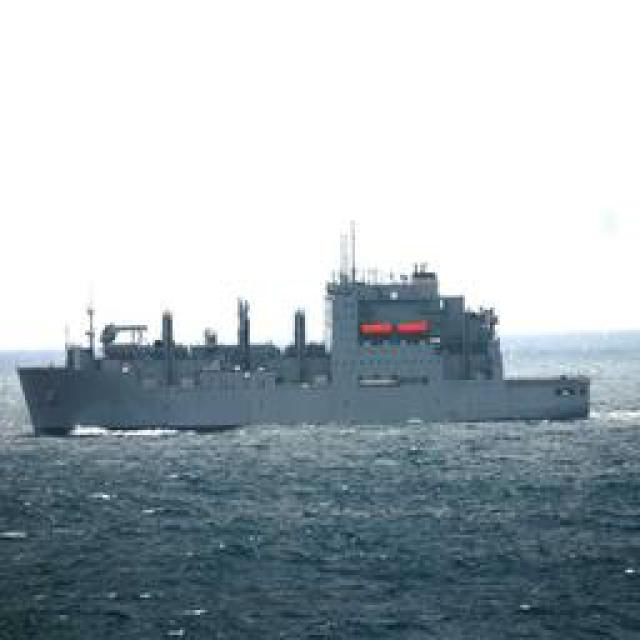Ship: (26, 306, 604, 436)
